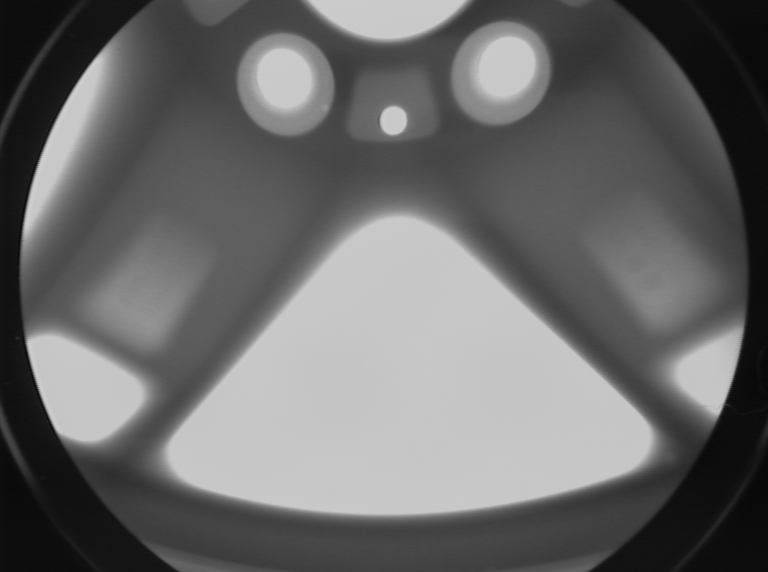defect: (320, 100, 334, 117)
